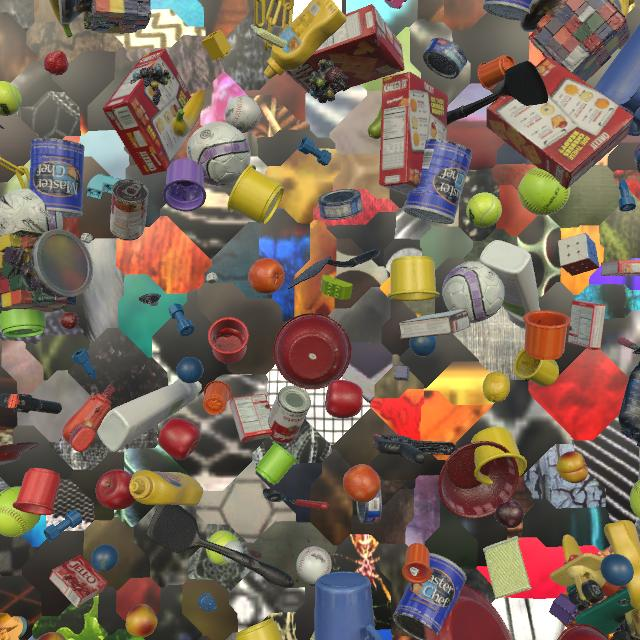ycb_002_master_chef_can: (392, 553, 467, 640), (403, 139, 473, 224), (29, 138, 85, 218), (483, 0, 532, 21)
ycb_003_cracker_box: (486, 56, 634, 189), (103, 48, 201, 175), (285, 4, 404, 99), (379, 71, 448, 196)
ycb_005_tomato_soup_can: (268, 386, 311, 444), (110, 179, 149, 241)
ycb_006_mustard_bottle: (264, 0, 347, 79), (604, 520, 640, 614), (129, 470, 203, 506), (610, 0, 635, 18)
ycb_007_tuna_fish_can: (423, 38, 467, 79), (318, 189, 363, 220), (356, 489, 382, 524), (634, 144, 640, 173)
ycb_008_pudding_box: (399, 309, 470, 339)
ycb_009_gelatin_box: (49, 555, 108, 608), (229, 394, 272, 443), (568, 300, 606, 350), (601, 260, 640, 276)
ycb_011_banana: (171, 89, 206, 137), (49, 0, 73, 37)
ycb_012_strawberry: (44, 50, 68, 76)
ycb_013_apple: (158, 418, 201, 460), (96, 469, 137, 510), (325, 380, 363, 418)
ycb_014_lemon: (483, 371, 510, 403)
ycb_015_peach: (126, 604, 158, 638), (556, 451, 588, 483), (37, 632, 66, 640)
ycb_016_pear: (368, 106, 382, 139)
ycb_017_orange: (343, 464, 381, 503), (248, 258, 285, 294)
ycb_018_plum: (494, 499, 524, 528)
